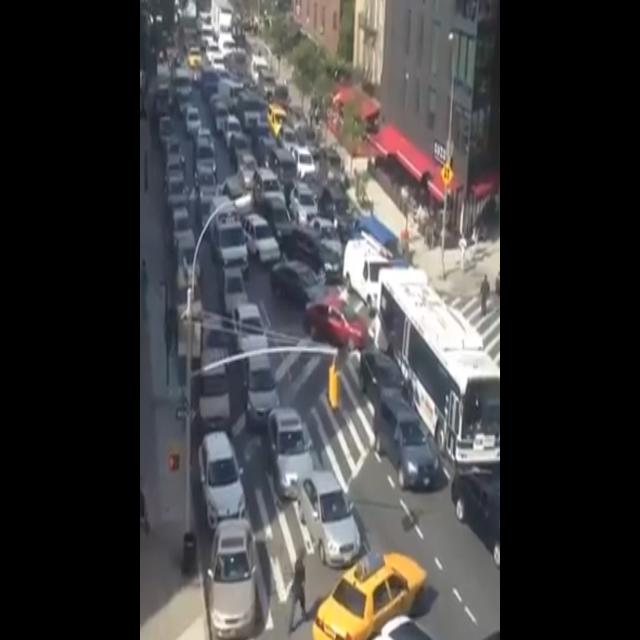Ambulance: (207, 193, 252, 275)
